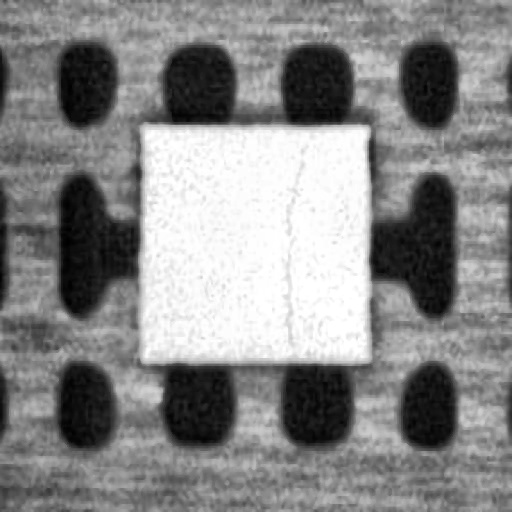DIE_CRACK: (274, 154, 306, 347)
